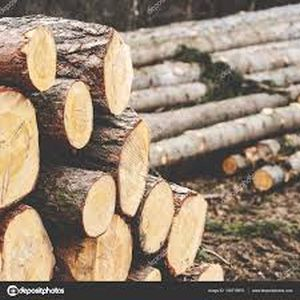log: (1, 85, 44, 209), (64, 211, 135, 286), (1, 205, 56, 283), (160, 189, 209, 275), (67, 168, 124, 239), (96, 25, 138, 120), (117, 116, 151, 223), (134, 177, 178, 259), (60, 74, 97, 155), (23, 23, 61, 93), (249, 166, 276, 196), (219, 155, 240, 177)
